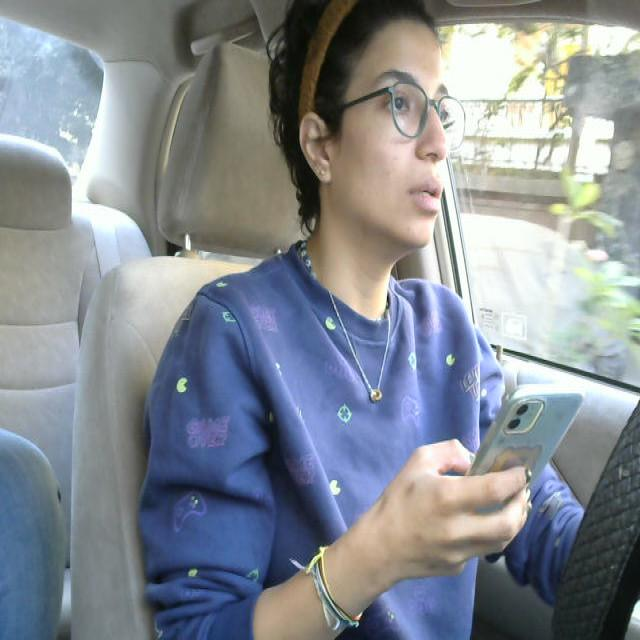mobile use: (472, 375, 582, 507)
